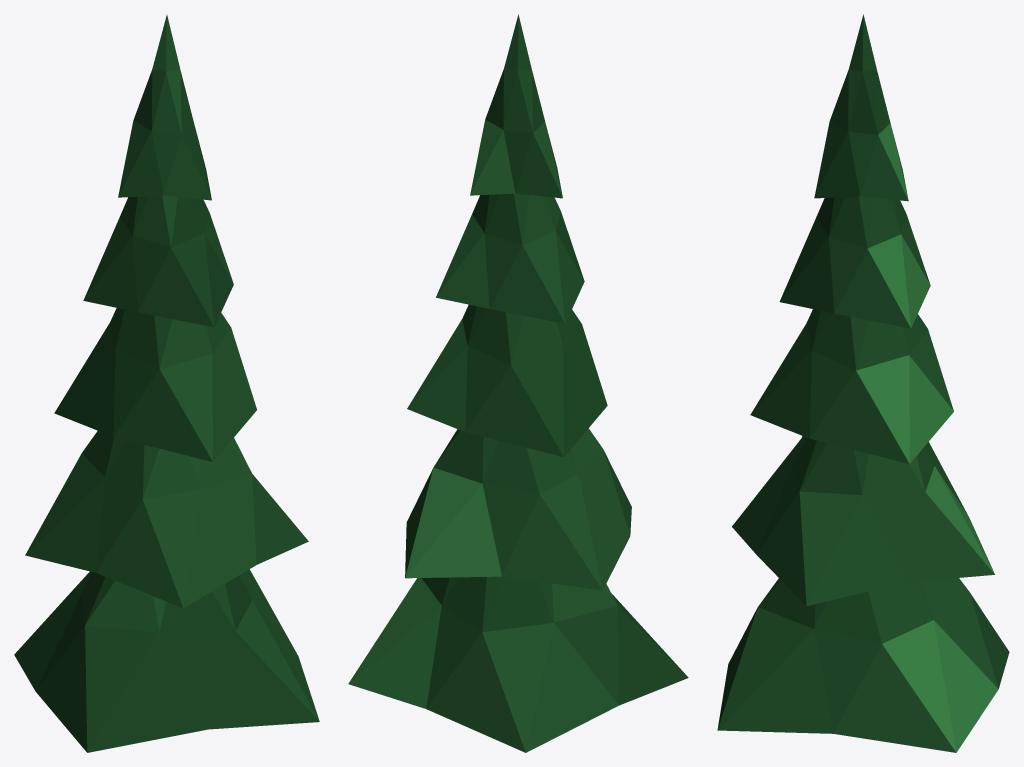
The model's file is Leaves_C.glb.
3 views of the same model, side by side, from view 1: azimuth 30°, elevation 25°; view 2: azimuth 150°, elevation 25°; view 3: azimuth 270°, elevation 25° (orthographic).
Parts seen in each view (by area): view 1: Leaves; view 2: Leaves; view 3: Leaves.
Part boxes in pixels (<box>): Leaves: <box>14,15,319,752</box>; Leaves: <box>348,14,688,752</box>; Leaves: <box>717,14,1009,752</box>.
Bounding box in the file's own units: 16.03 × 41.01 × 16.03.
